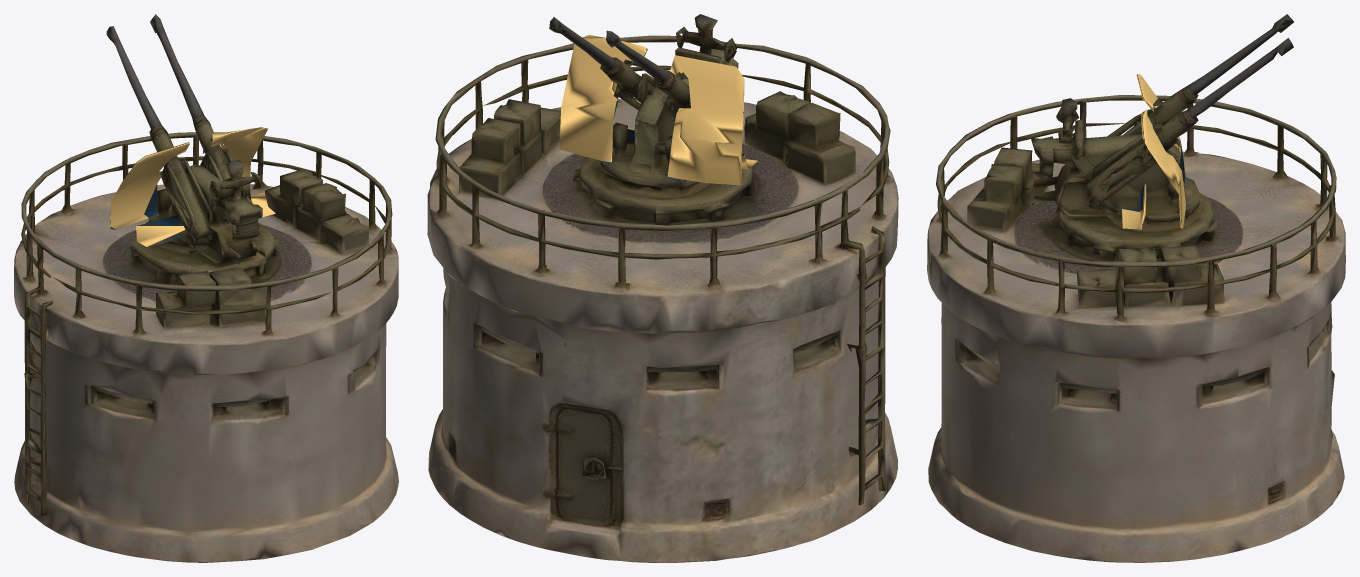
Rendered from flak_tower.glb.
The picture shows the model from 3 angles, left to right: view 1: azimuth 30°, elevation 25°; view 2: azimuth 150°, elevation 25°; view 3: azimuth 270°, elevation 25°; orthographic projection. The views are drawn at different scales.
Parts seen in each view (by area): view 1: Model; view 2: Model; view 3: Model.
Boxes of the visible parts, x1=… form: Model: x1=14, y1=14, x2=398, y2=562; Model: x1=427, y1=14, x2=898, y2=562; Model: x1=927, y1=14, x2=1345, y2=562.
Size of the model in its own units: 2 by 2.31 by 1.96.
Materials: 2 (1 with a texture image).
